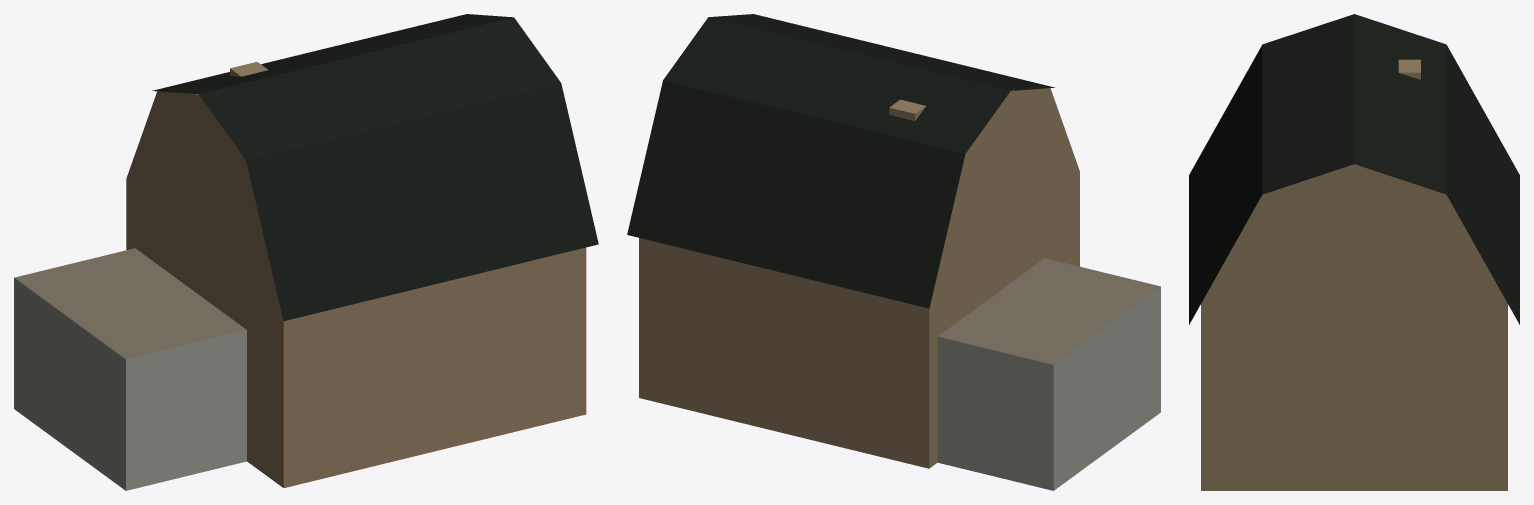
The model's file is mh-gambrel-house.towns-v1.lod2.glb.
3 renders of one model, left to right at view 1: azimuth 30°, elevation 25°; view 2: azimuth 150°, elevation 25°; view 3: azimuth 270°, elevation 25°, orthographic. The views are drawn at different scales.
Parts seen in each view (by area): view 1: mh-gambrel-house; view 2: mh-gambrel-house; view 3: mh-gambrel-house.
Part boxes in pixels (x1,y1,x2,y2): mh-gambrel-house: [14, 14, 598, 490]; mh-gambrel-house: [627, 14, 1160, 490]; mh-gambrel-house: [1189, 14, 1519, 490].
Bounding box in the file's own units: 14.21 × 10.67 × 9.7.
